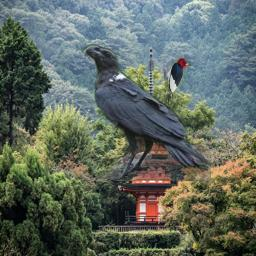Crow: (81, 43, 211, 181)
Woodpecker: (163, 58, 191, 103)
